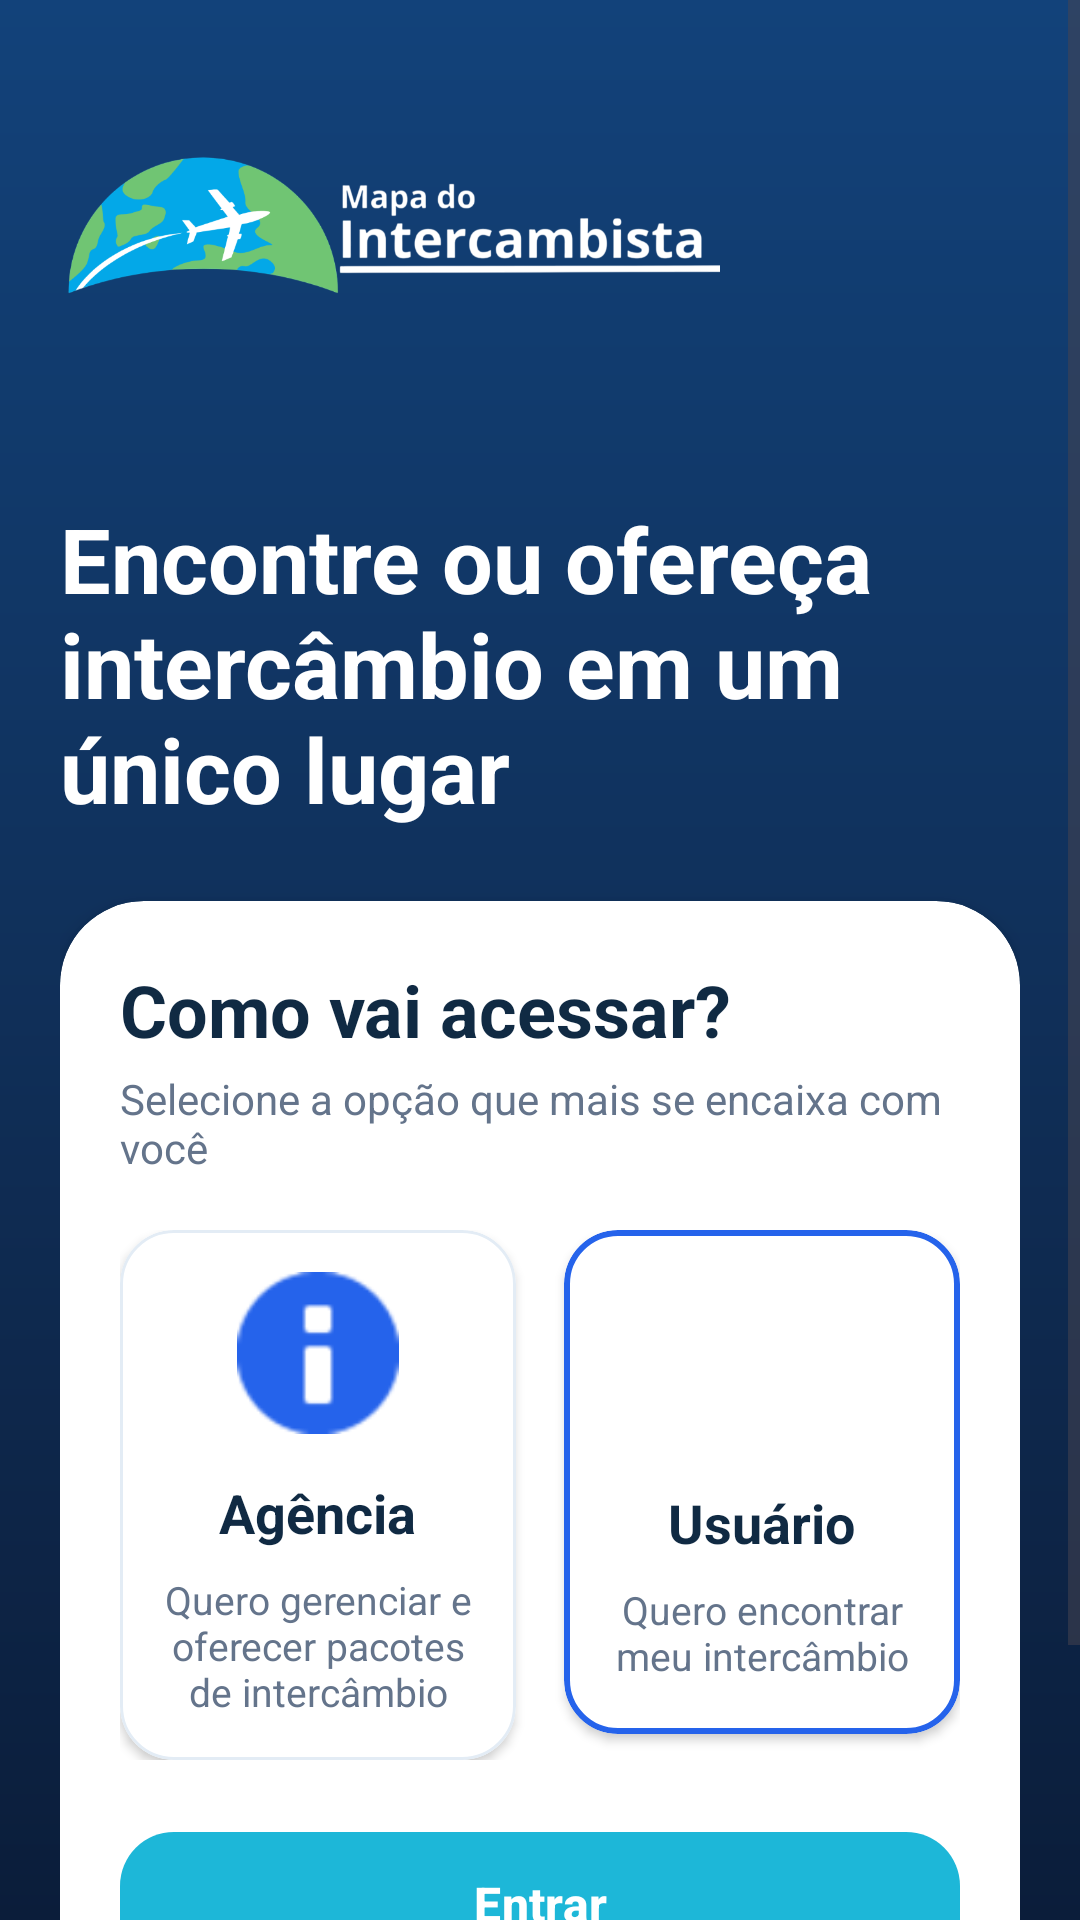

Named icons in this screenshot (1080x1920) and their bounding boxes, bbox=[x1, y1, x2, y2]:
info: bbox=[237, 1272, 399, 1434]
